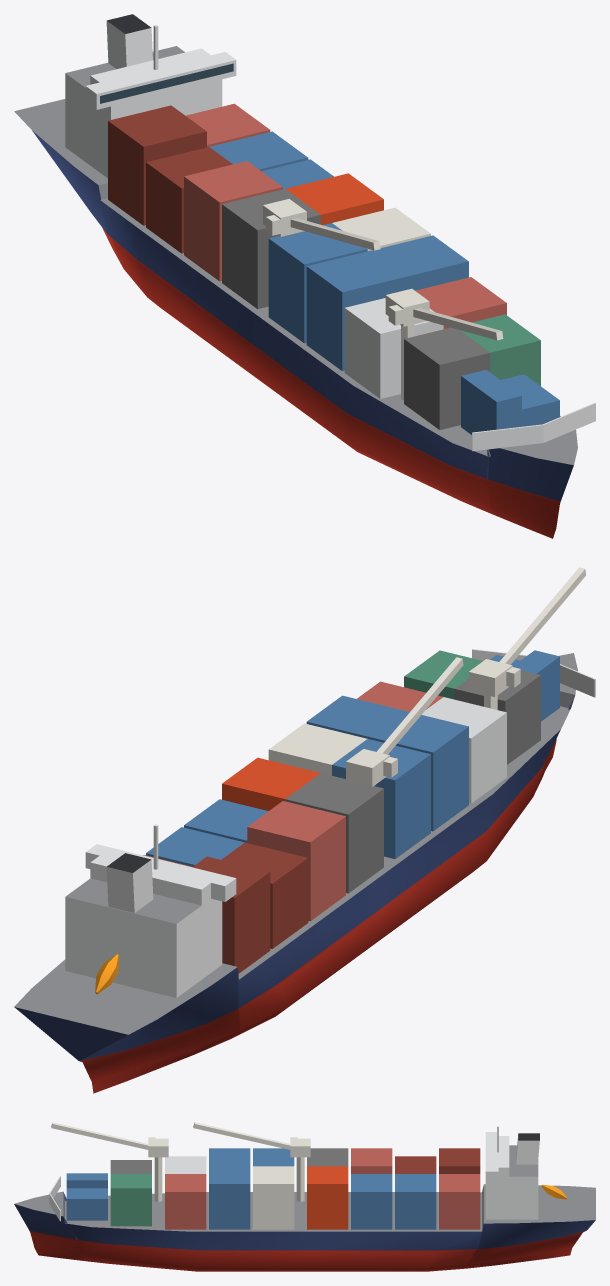
Rendered from ambient_container_ship_far.fbx.
The picture shows the model from 3 angles, top to bottom: view 1: azimuth 30°, elevation 25°; view 2: azimuth 150°, elevation 25°; view 3: azimuth 270°, elevation 25°; orthographic projection. The views are drawn at different scales.
Visible parts, largest first — view 1: ambient_container_ship_far; view 2: ambient_container_ship_far; view 3: ambient_container_ship_far.
Boxes of the visible parts, <box> form: ambient_container_ship_far: <box>14,14,595,538</box>; ambient_container_ship_far: <box>14,567,595,1093</box>; ambient_container_ship_far: <box>14,1122,595,1271</box>.
Size of the model in its own units: 27.6 by 42 by 172.
